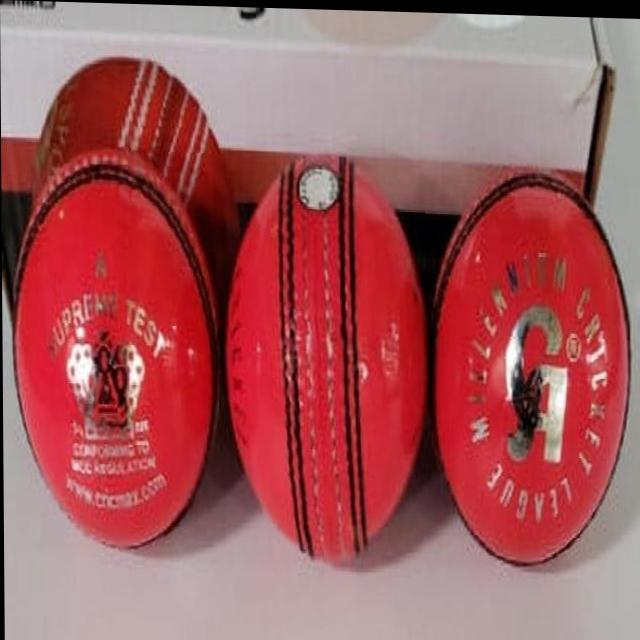cricket ball: (13, 150, 221, 550), (225, 152, 426, 556), (428, 162, 630, 564)
